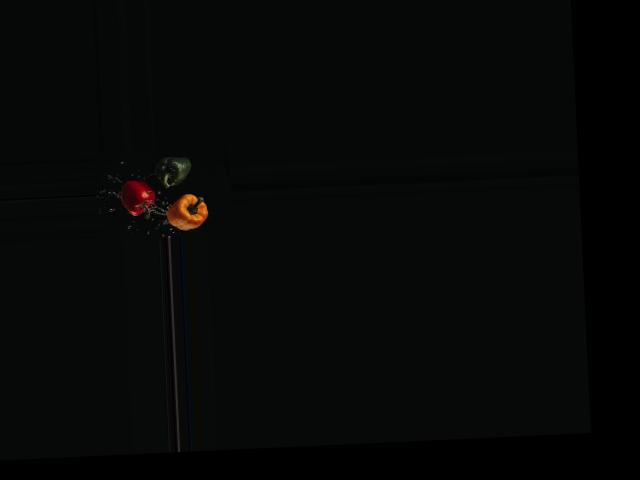bell_pepper: (118, 171, 163, 225)
